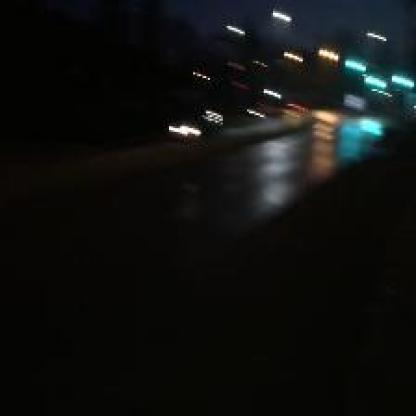other: (308, 97, 338, 170), (316, 43, 341, 66)
